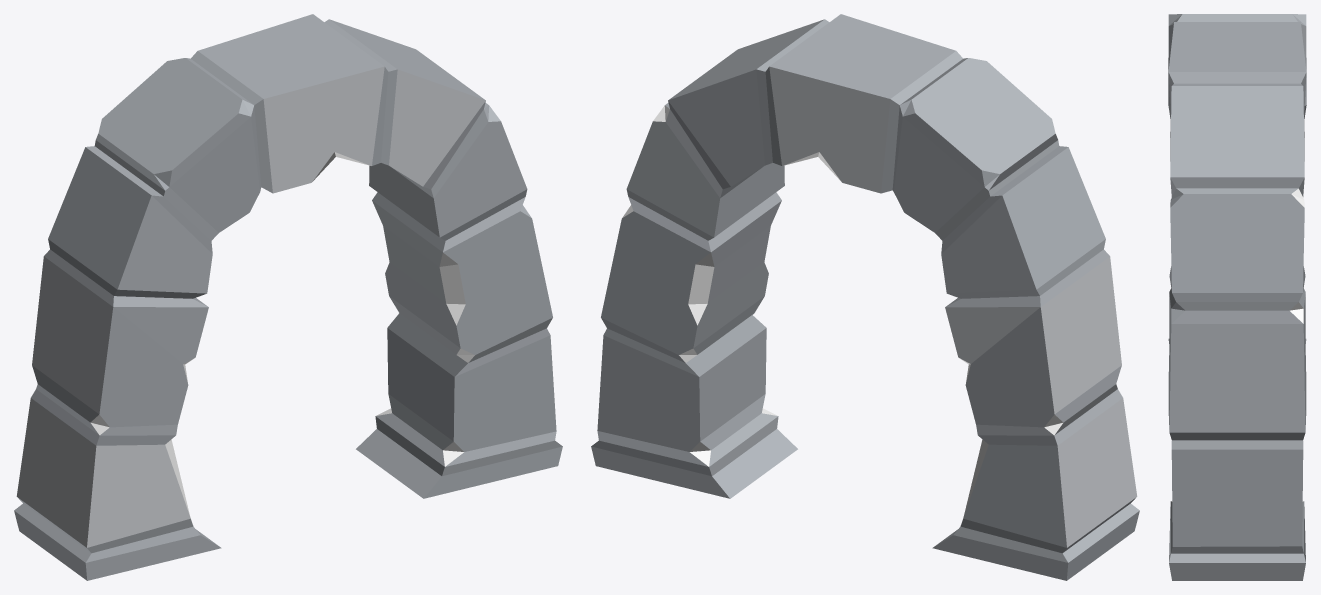
File: Door.fbx
3 renders of one model, left to right at view 1: azimuth 30°, elevation 25°; view 2: azimuth 150°, elevation 25°; view 3: azimuth 270°, elevation 25°, orthographic. The views are drawn at different scales.
Visible parts, largest first — view 1: Door; view 2: Door; view 3: Door.
Part boxes in pixels (x1,y1,x2,y2): Door: (14, 14, 562, 580); Door: (591, 14, 1139, 580); Door: (1168, 14, 1306, 580).
Size of the model in its own units: 568 by 504 by 148.
